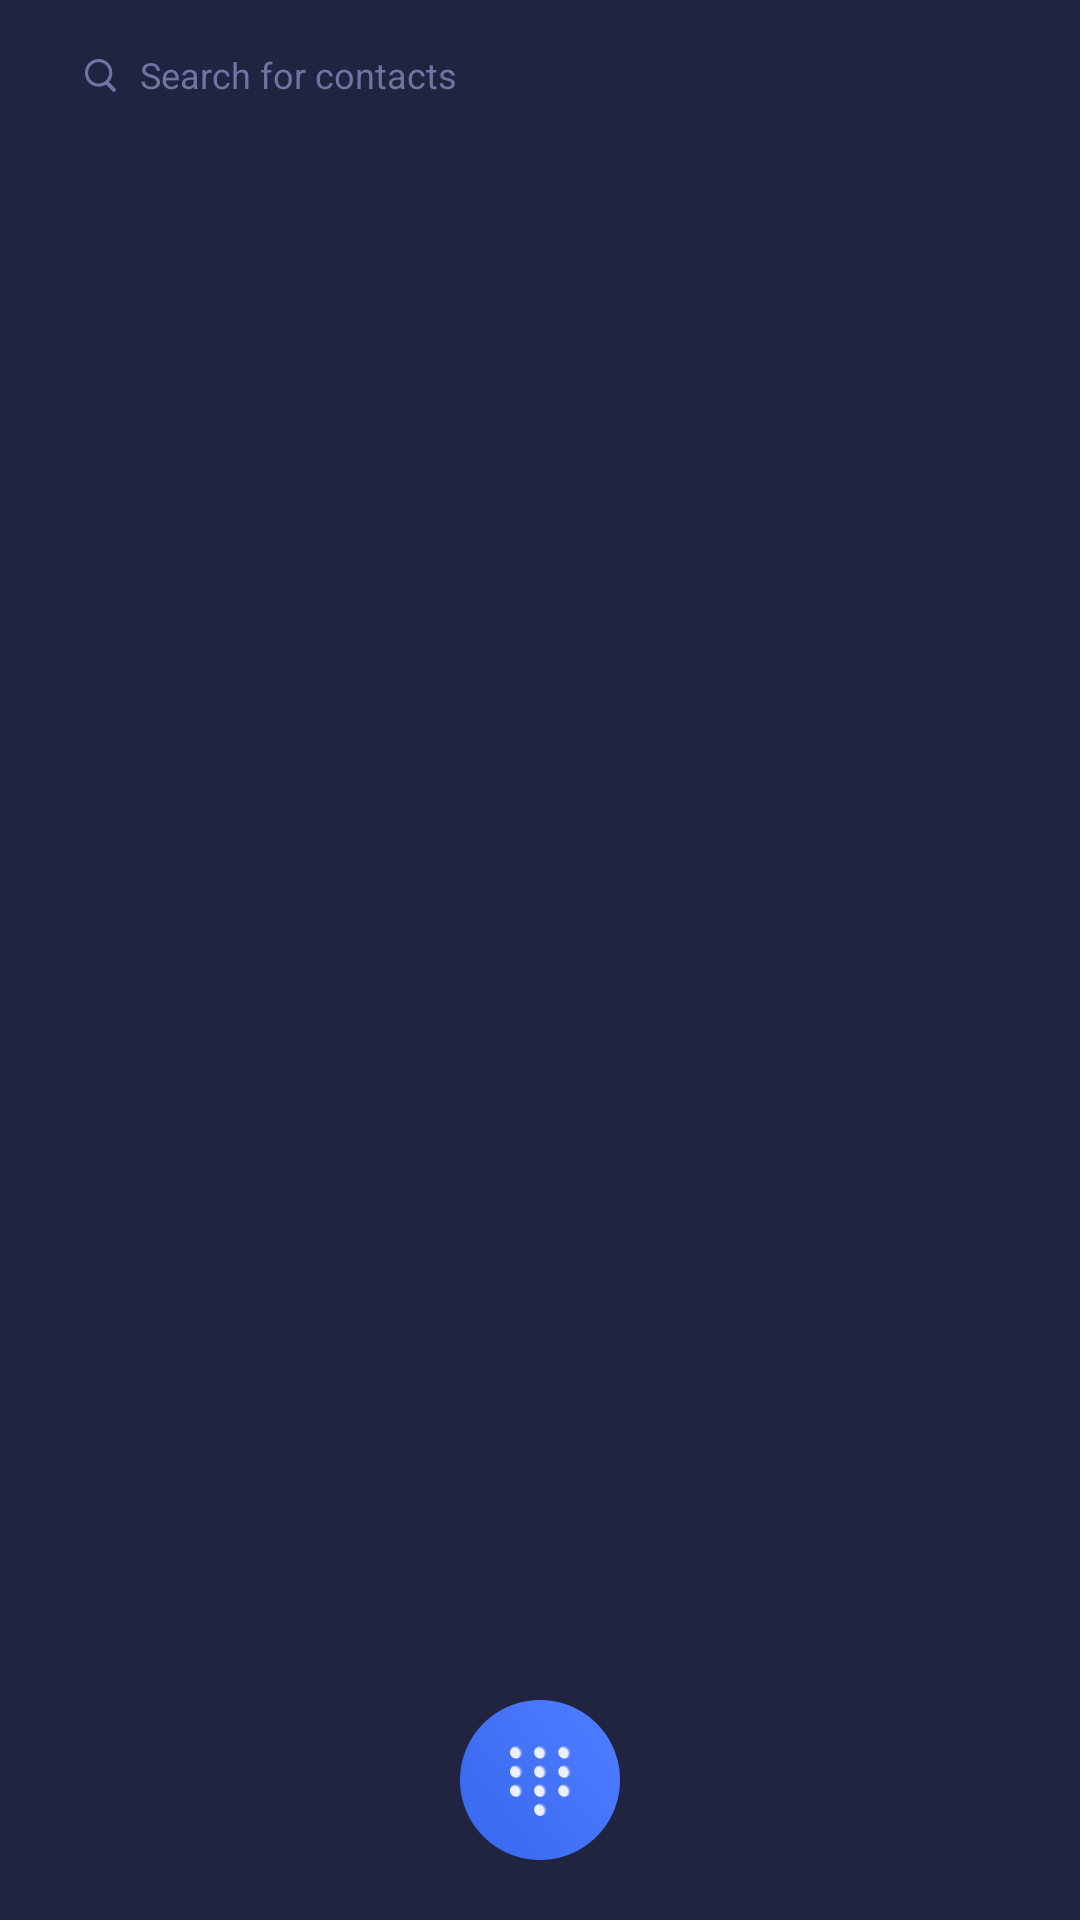

Screen size 1080×1920. Icon name, then its center in pixels as point (x, y):
dial: point (540, 1780)
